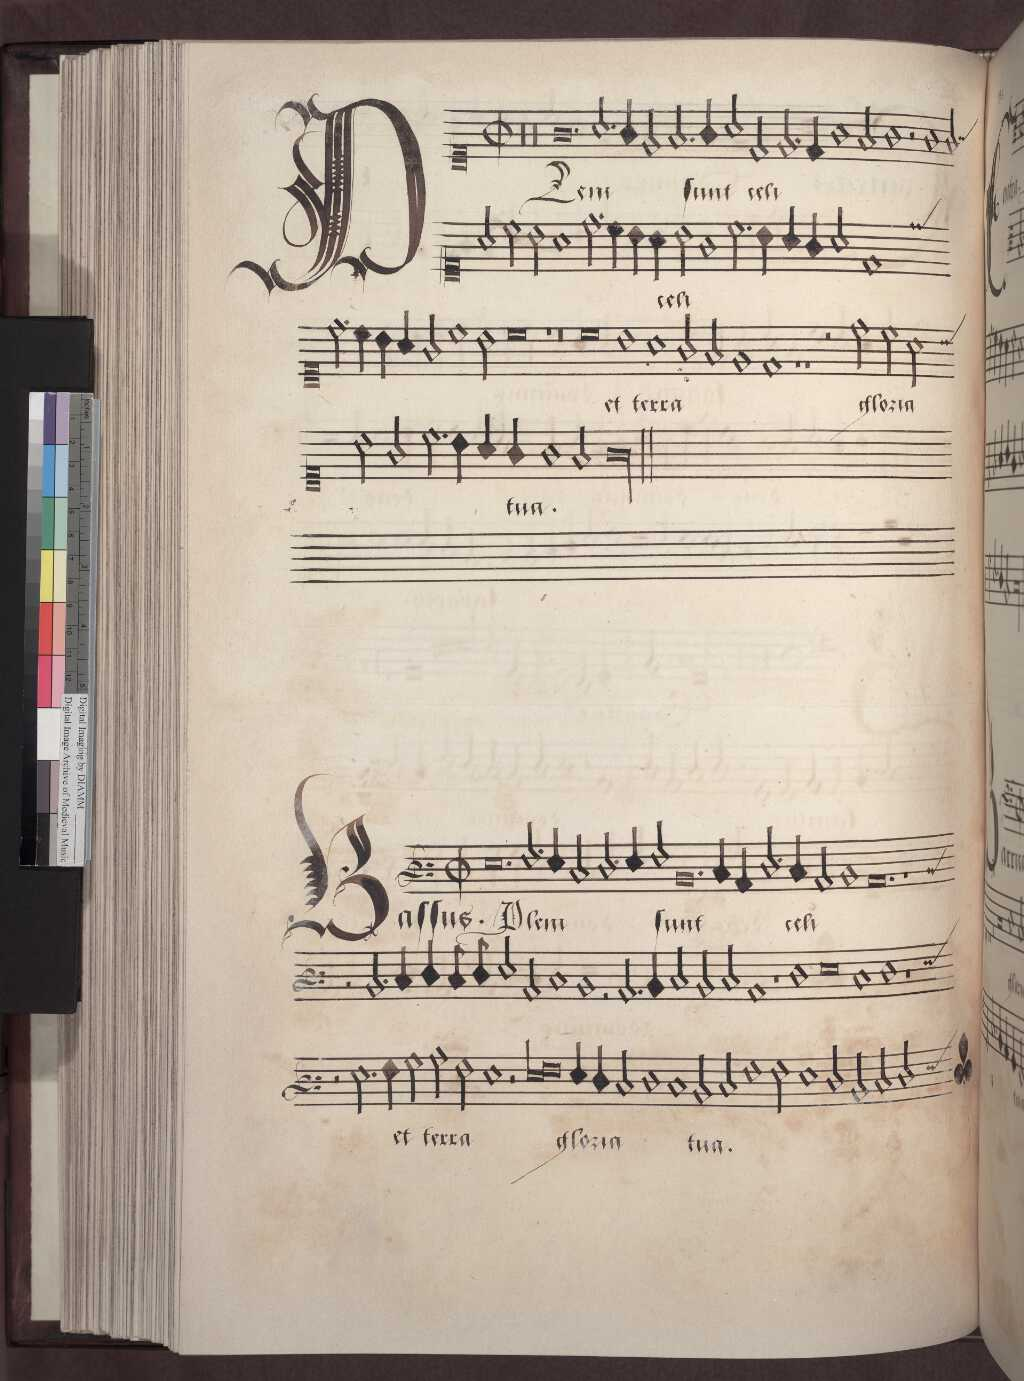c clef_11: (437, 237, 469, 294)
custos_3: (908, 193, 938, 240)
minim_3: (579, 202, 601, 274)
minim_4: (499, 209, 522, 277), (723, 209, 744, 275)
minim_5: (671, 212, 694, 285), (524, 214, 547, 281)
minim_6: (829, 196, 852, 260), (475, 198, 499, 256)
point: (742, 216, 756, 236), (593, 209, 607, 225)
semibreve_10: (858, 243, 887, 288)
semibreve_6: (547, 220, 574, 258)
semibreve_7: (696, 225, 722, 269)
semiminim_4: (606, 209, 626, 275)
semiminim_5: (754, 216, 776, 284), (627, 215, 648, 284)
semiminim_6: (781, 198, 803, 260), (648, 220, 667, 288)
semiminim_7: (803, 204, 827, 268)
